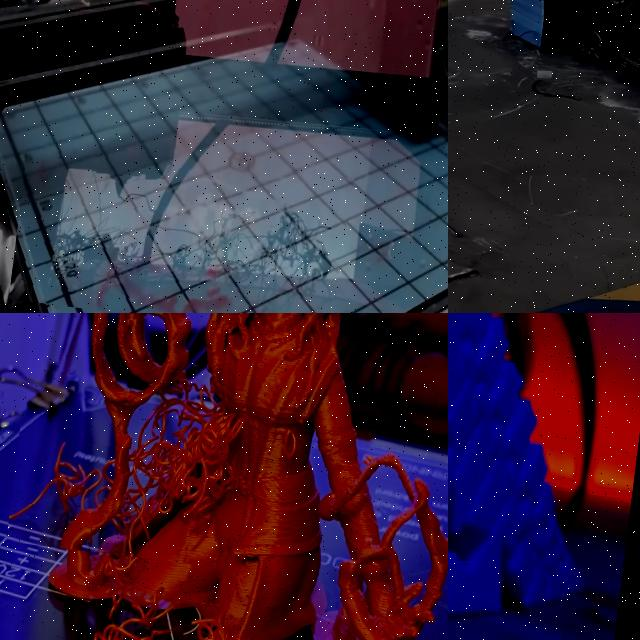spaghetti: (8, 136, 353, 313), (5, 355, 254, 569), (84, 555, 172, 640), (178, 605, 251, 640)
